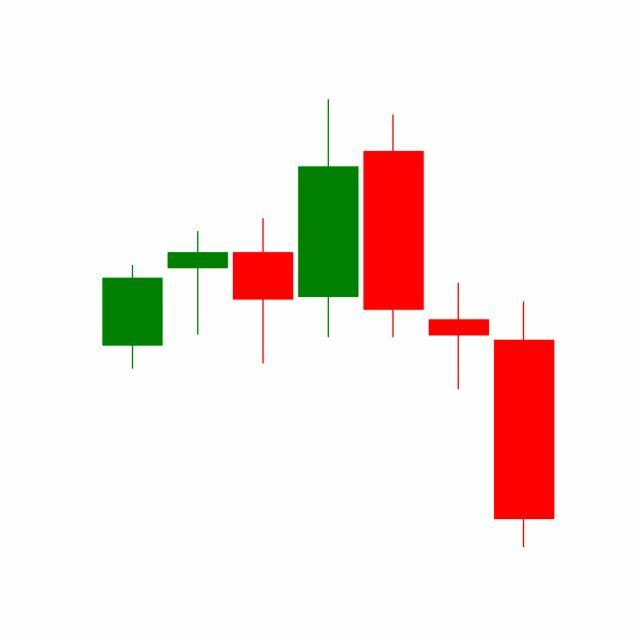Three Outside Up-Down: (295, 99, 492, 394)
